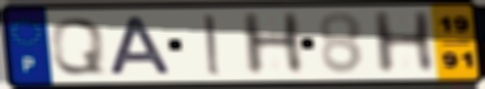8: (317, 10, 368, 77)
A: (108, 15, 176, 77)
H: (368, 9, 439, 77), (237, 11, 308, 78)
I: (201, 13, 225, 77)
Q: (49, 16, 107, 77)
